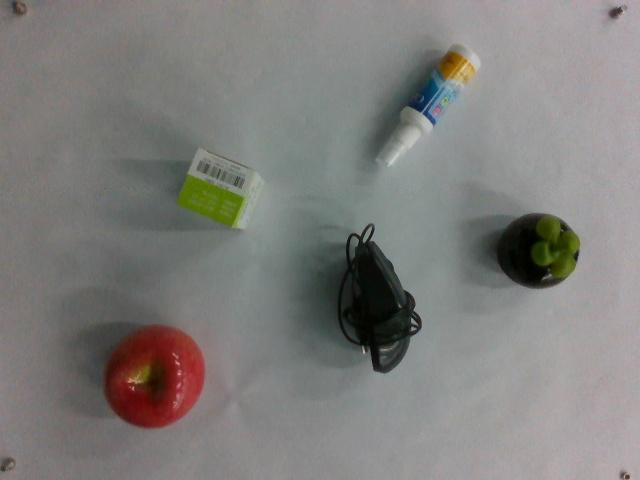apple: (102, 321, 205, 431)
carton: (173, 146, 265, 233)
detergent: (373, 42, 482, 169)
mangosteen: (495, 211, 581, 291)
mouse: (332, 223, 422, 373)
